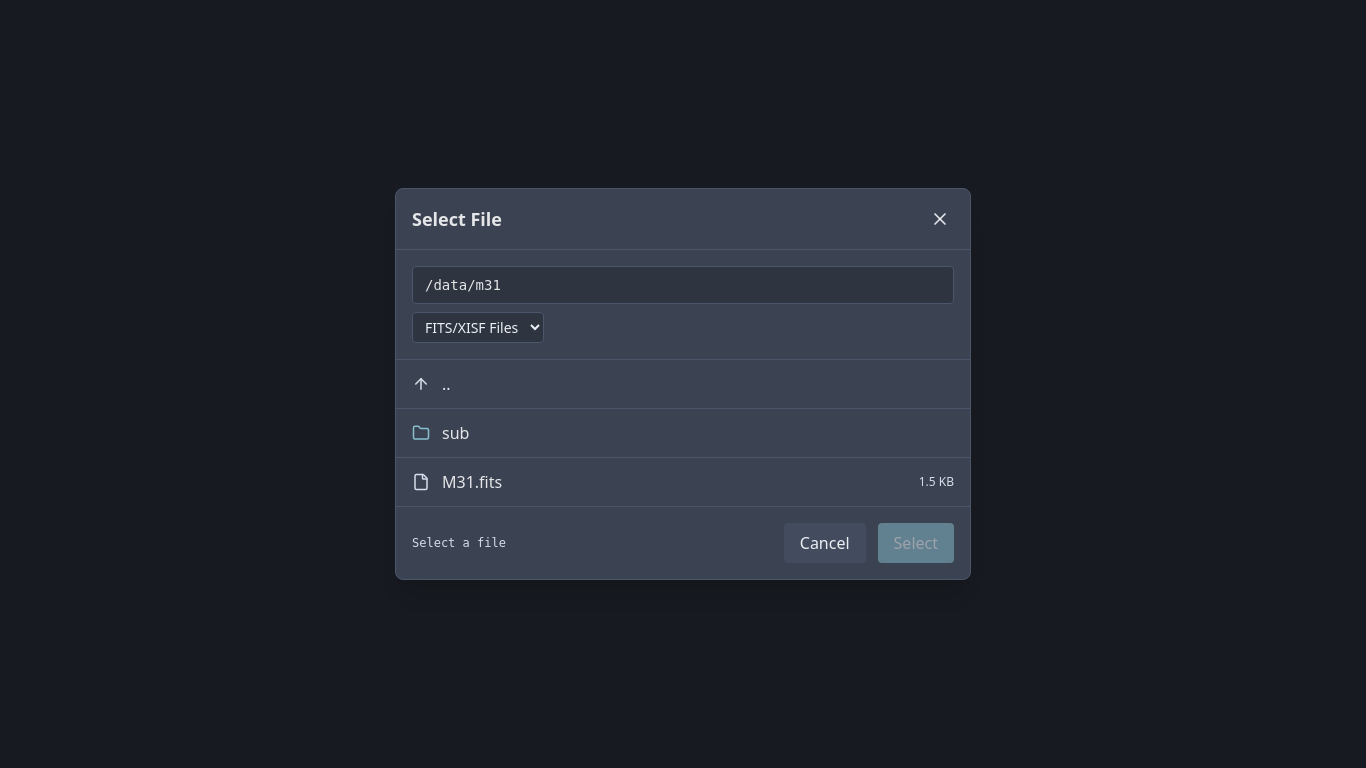
Scenario: FolderBrowserModal › navigating into a folder clears the selection
Click the text "M31.fits" at (472, 482), box [442,471,502,493]
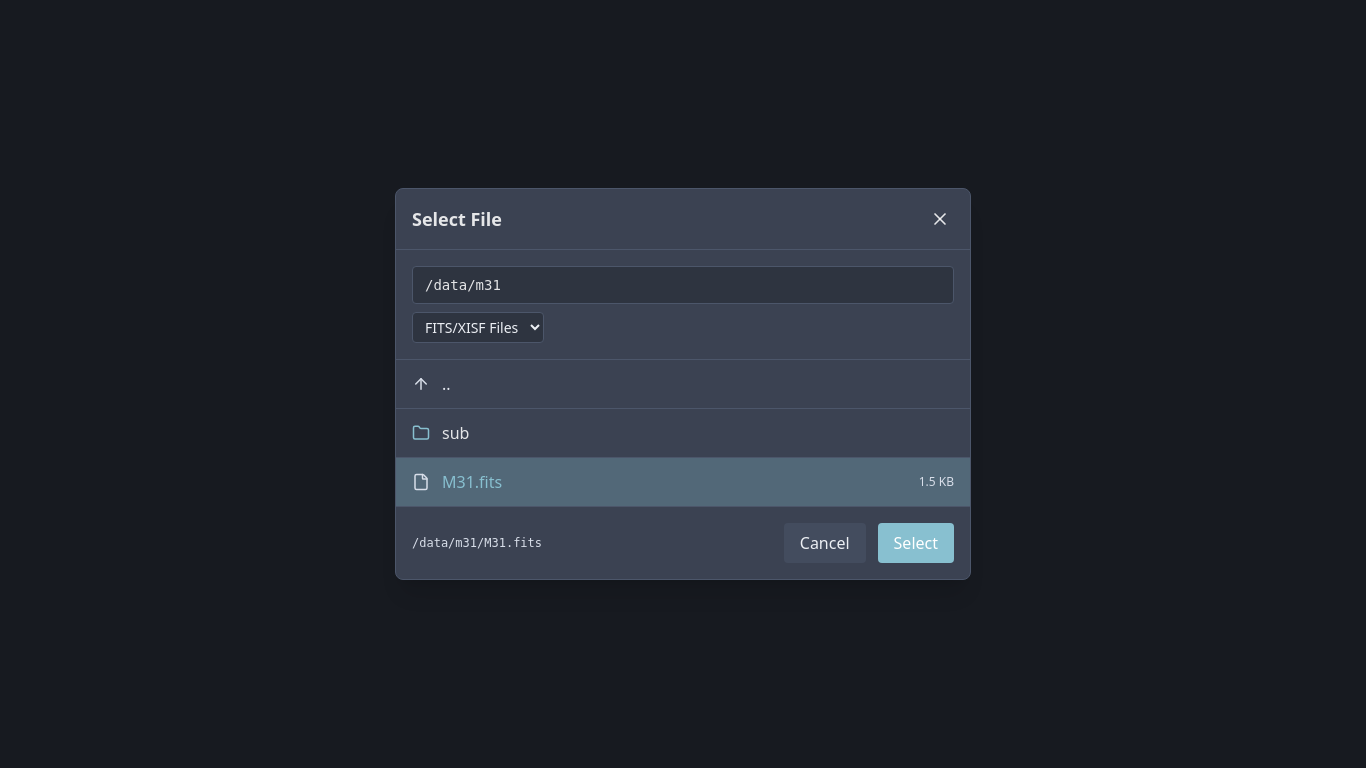
Check: the button "Select" is enabled, box [878,523,954,563]
Click the button "sub" at (421, 433), box [396,408,970,457]
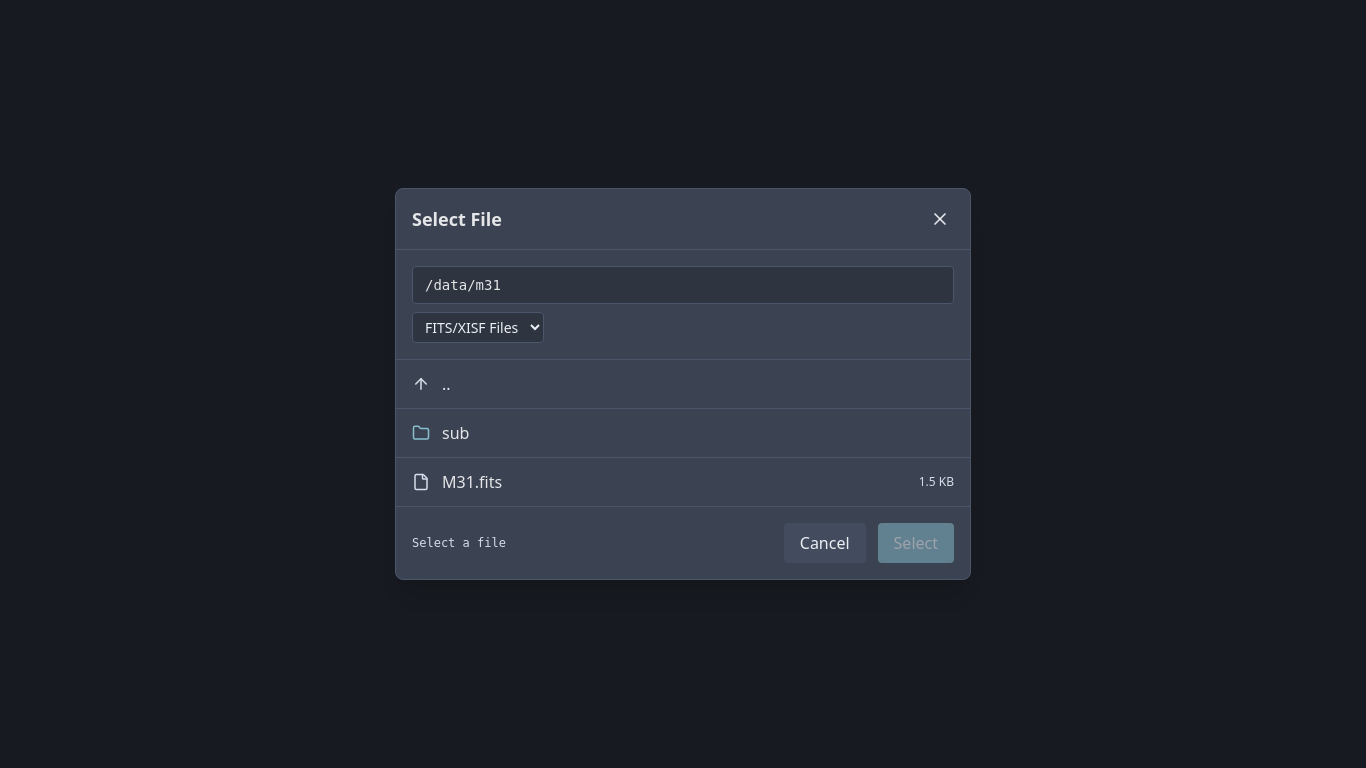
Check: the button "Select" is disabled, box [878,523,954,563]
Check: the text "Select a file" is shown, box [412,535,506,551]
